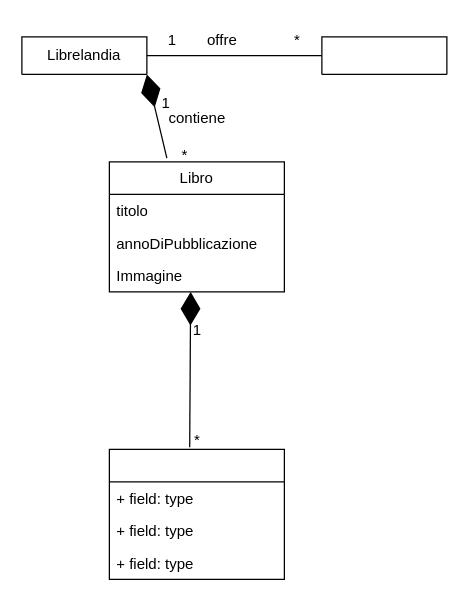
The diagram is 469 pixels wide and 604 high, and some of its shapes have lost their labels. The box of each missing label's shape, as (x1, y1, x2, y2) in pixels:
Classname: (321, 36, 447, 74)
Recensione: (108, 448, 284, 579)
